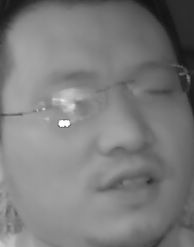glass: (37, 84, 102, 128), (126, 60, 190, 104)
mouth: (100, 164, 165, 205)
